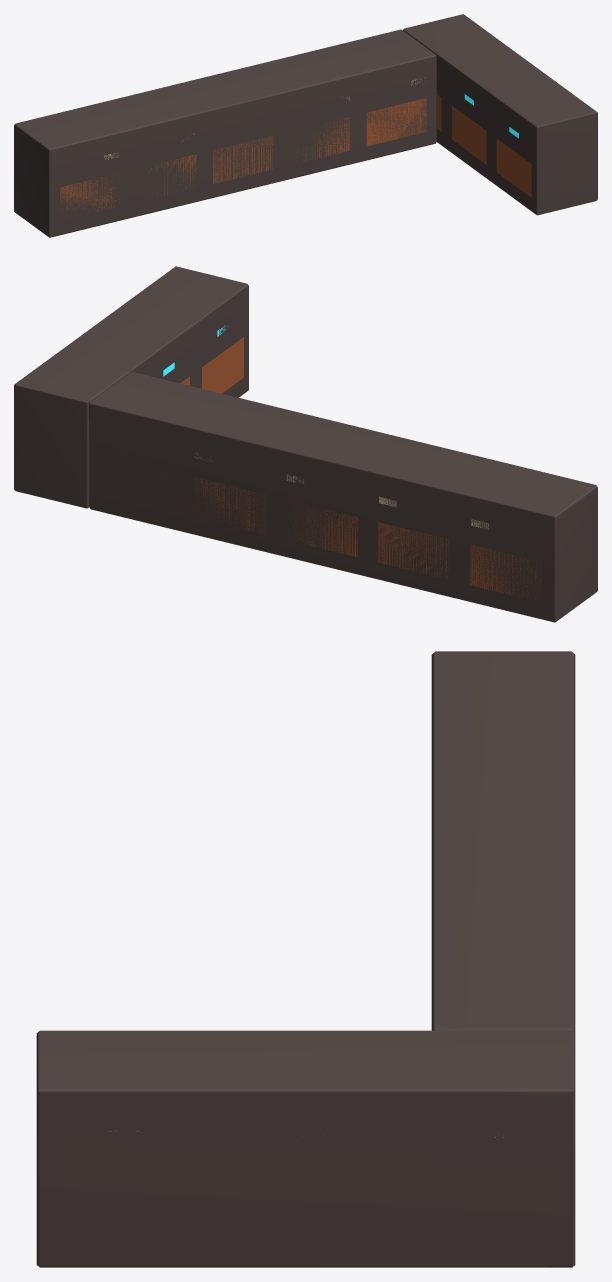
File: e6-low-cover-return.glb
3 renders of one model, top to bottom at view 1: azimuth 30°, elevation 25°; view 2: azimuth 150°, elevation 25°; view 3: azimuth 270°, elevation 25°, orthographic. The views are drawn at different scales.
Visible parts, largest first — view 1: e6-low-cover-return | Low barrier undercut shadow, e6-low-cover-return | Band 6 old oxide red; view 2: e6-low-cover-return | Low barrier undercut shadow, e6-low-cover-return | Band 6 old oxide red; view 3: e6-low-cover-return | Low barrier undercut shadow.
Part boxes in pixels (left/top/right/bottom): e6-low-cover-return | Low barrier undercut shadow: left=14, top=14, right=597, bottom=237; e6-low-cover-return | Band 6 old oxide red: left=60, top=95, right=531, bottom=216; e6-low-cover-return | Low barrier undercut shadow: left=14, top=266, right=597, bottom=622; e6-low-cover-return | Band 6 old oxide red: left=180, top=337, right=541, bottom=598; e6-low-cover-return | Low barrier undercut shadow: left=36, top=651, right=575, bottom=1267.
Size of the model in its own units: 5.8 by 1.1 by 3.
